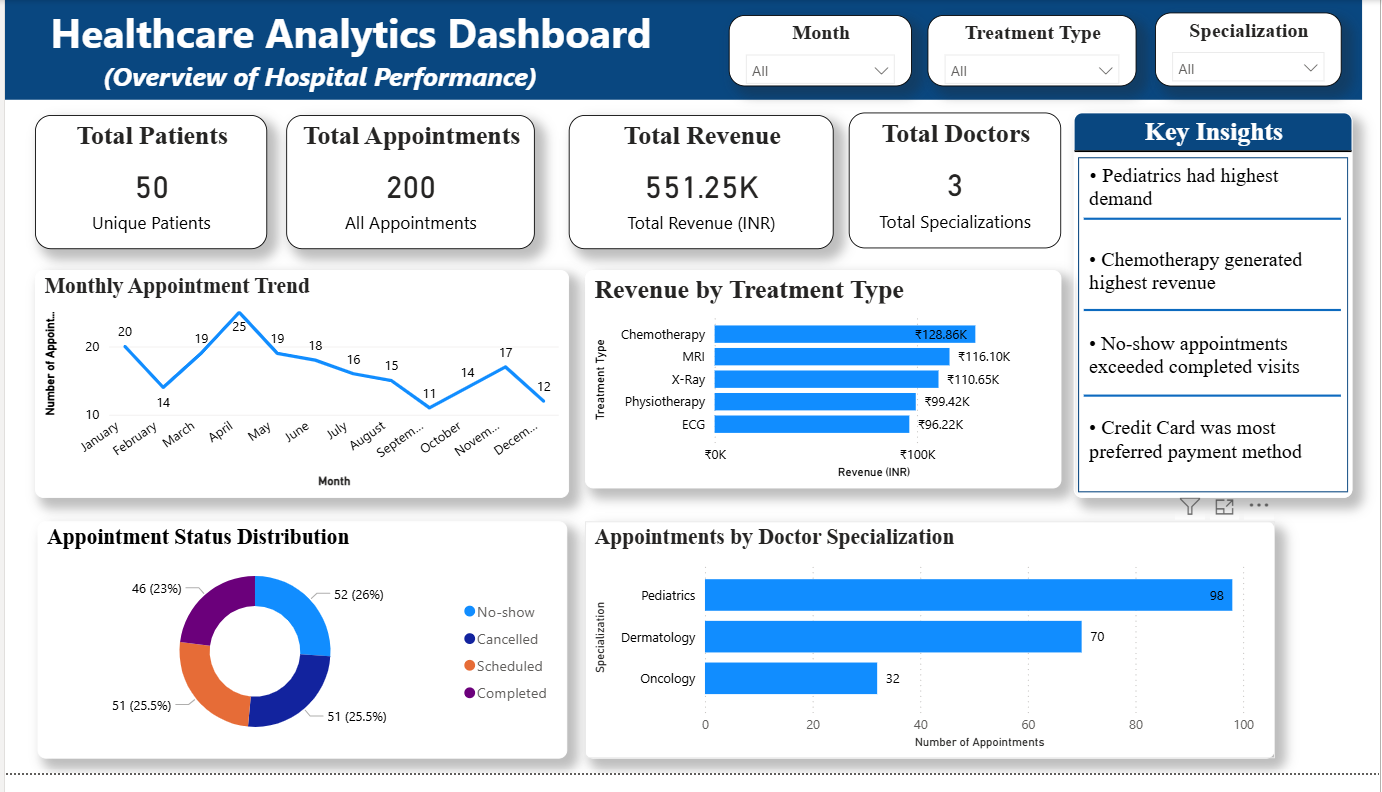

Layout of this report page (visuals, bound fields, positions):
{"tool":"powerbi","page":{"name":"Executive Summary","canvas":[1280,720],"ordinal":0},"visuals":[{"type":"card","title":"Total Patients","fields":{"Values":["patients.Total Patients"]},"box":[27.9,107,216.3,124.4],"z":0},{"type":"card","title":"Total Appointments","fields":{"Values":["appointments.Total Appointments"]},"box":[261.6,107,231.4,124.4],"z":1000},{"type":"card","title":"Total Revenue","fields":{"Values":["billing.Total Revenue"]},"box":[524.4,107,246.5,124.4],"z":2000},{"type":"card","title":"Total Doctors","fields":{"Values":["doctors.Total Doctors"]},"box":[784.9,104.7,197.7,126.7],"z":3000},{"type":"donutChart","title":" Appointment Status Distribution","fields":{"Category":["appointments.status"],"Y":["CountNonNull(appointments.status)"]},"box":[30.2,484.9,493,220.9],"z":4000},{"type":"lineChart","title":"Monthly Appointment Trend","fields":{"Y":["CountNonNull(appointments.appointment_id)"],"Category":["appointments.appointment_date.Variation.Date Hierarchy.Month"]},"box":[27.9,251.2,496.5,211.6],"z":5000},{"type":"textbox","box":[0,0,1262.8,93],"z":6000},{"type":"clusteredBarChart","title":"Revenue by Treatment Type","fields":{"Category":["treatments.treatment_type"],"Y":["Sum(billing.amount)"]},"box":[539.5,251.2,443,203.5],"z":7000},{"type":"slicer","title":"Month","fields":{"Values":["appointments.appointment_date.Variation.Date Hierarchy.Month"]},"box":[673.6,14.4,170.5,66],"z":8000},{"type":"slicer","title":"Treatment Type","fields":{"Values":["treatments.treatment_type"]},"box":[858.1,14,194.2,66.3],"z":9000},{"type":"slicer","title":"Specialization","fields":{"Values":["doctors.specialization"]},"box":[1069.8,11.6,173.3,68.6],"z":10000},{"type":"clusteredBarChart","title":"Appointments by Doctor Specialization","fields":{"Category":["doctors.specialization"],"Y":["CountNonNull(appointments.appointment_id)"]},"box":[539.5,484.9,641.9,220.9],"z":11000},{"type":"shape","title":"Key Insights   ","box":[994.2,104.7,259.3,358.1],"z":12000},{"type":"textbox","box":[1003.5,144.2,239.5,310.5],"z":13000},{"type":"shape","box":[1003.5,53.5,239.5,300],"z":14000},{"type":"shape","box":[1003.5,360.5,239.5,15.1],"z":15000},{"type":"shape","box":[1003.5,138.4,239.5,300],"z":16000}]}

Visuals, with their boxes in screenshot pixels (x1, y1, x2, y2), scaled from the page's 1280x720 canvas onto the 1382x792 screenshot:
"Total Patients" card: BBox(30, 118, 264, 255)
"Total Appointments" card: BBox(282, 118, 532, 255)
"Total Revenue" card: BBox(566, 118, 832, 255)
"Total Doctors" card: BBox(847, 115, 1061, 255)
" Appointment Status Distribution" donutChart: BBox(33, 533, 565, 776)
"Monthly Appointment Trend" lineChart: BBox(30, 276, 566, 509)
textbox: BBox(0, 0, 1363, 102)
"Revenue by Treatment Type" clusteredBarChart: BBox(582, 276, 1061, 500)
"Month" slicer: BBox(727, 16, 911, 88)
"Treatment Type" slicer: BBox(926, 15, 1136, 88)
"Specialization" slicer: BBox(1155, 13, 1342, 88)
"Appointments by Doctor Specialization" clusteredBarChart: BBox(582, 533, 1276, 776)
"Key Insights   " shape: BBox(1073, 115, 1353, 509)
textbox: BBox(1083, 159, 1342, 500)
shape: BBox(1083, 59, 1342, 389)
shape: BBox(1083, 397, 1342, 413)
shape: BBox(1083, 152, 1342, 482)
